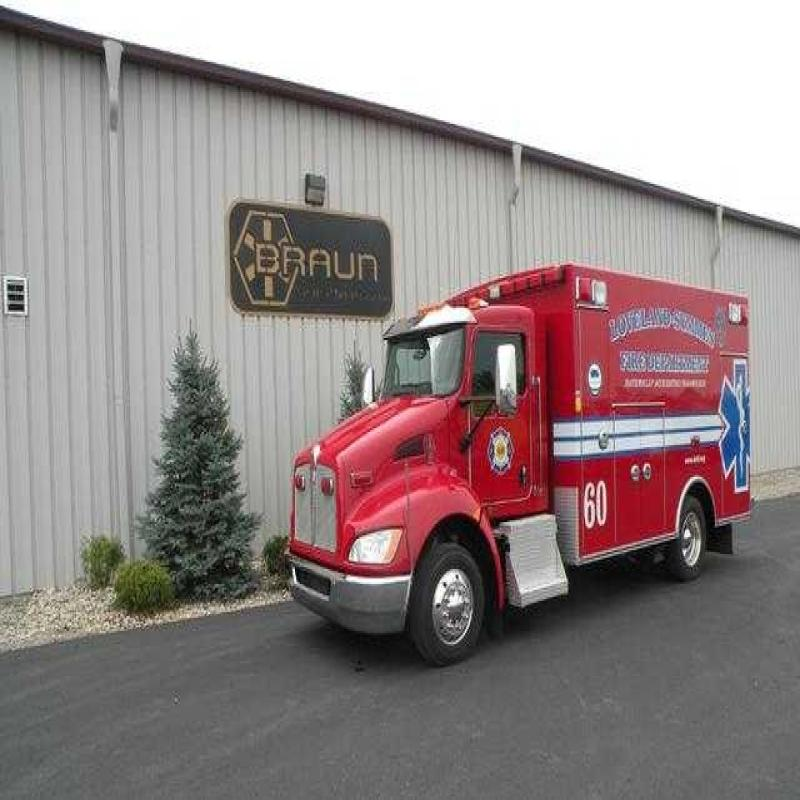AmbulanceSiren: (462, 260, 570, 307)
